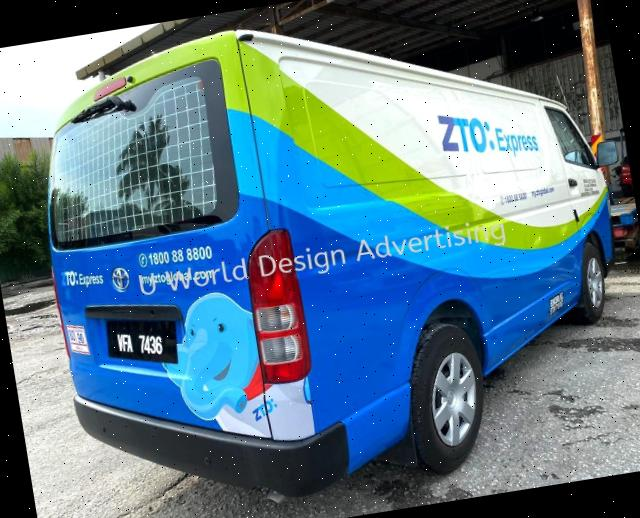License_Plate: (94, 300, 183, 382)
van: (8, 1, 640, 518)
